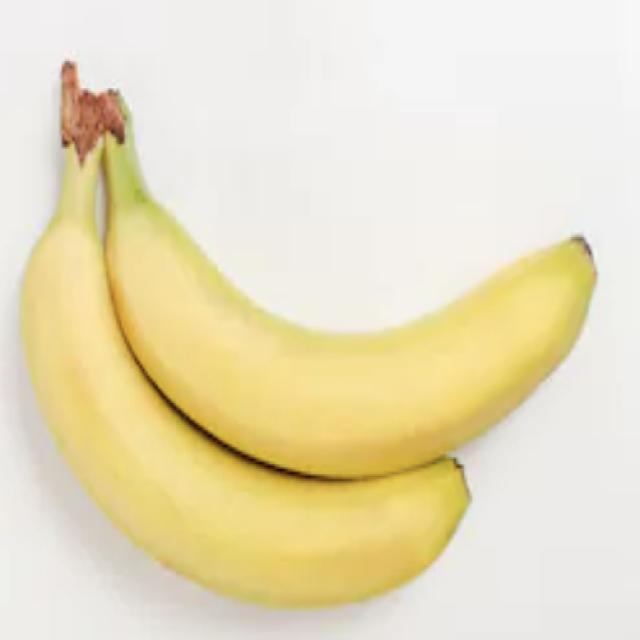Banana: (19, 57, 598, 608)
